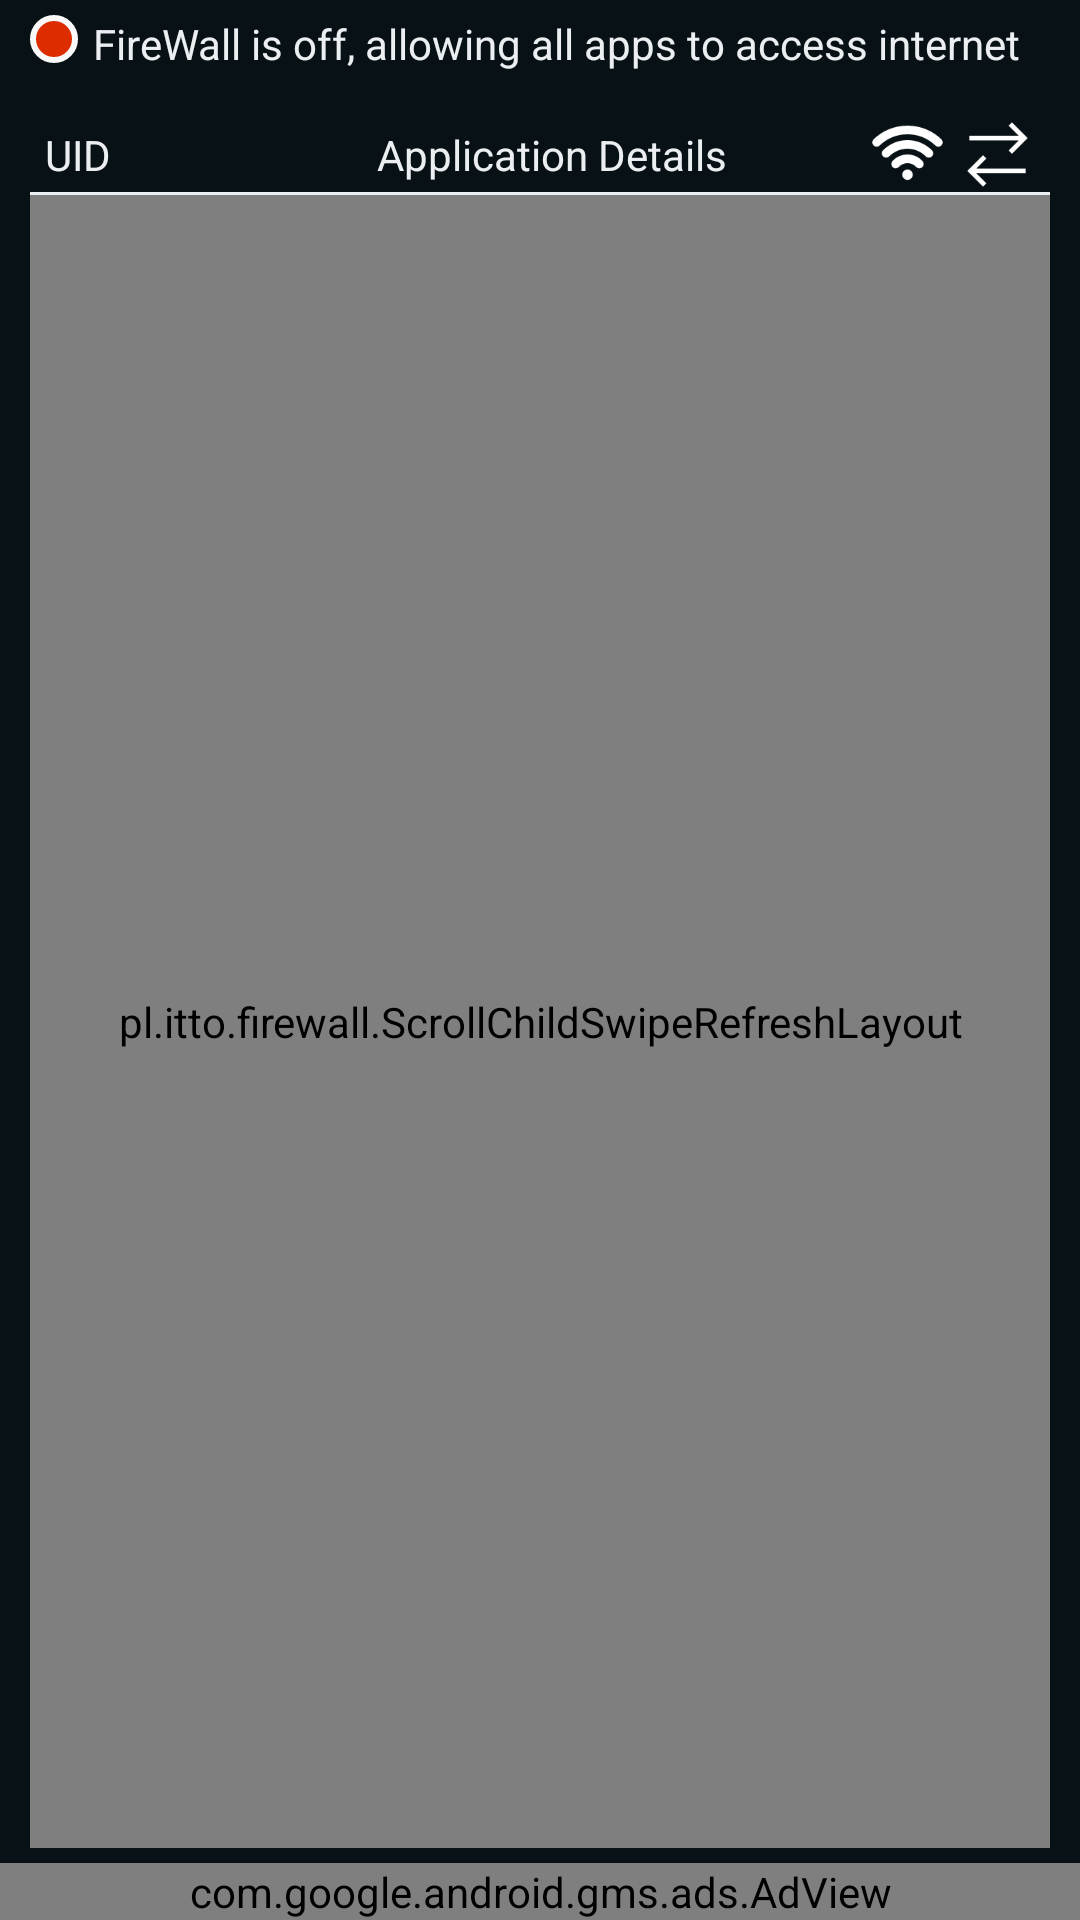

Screen size 1080 × 1920. Icon name, then its center in pixels as [x,y]:
data: [997,154]
wifi: [907,153]
